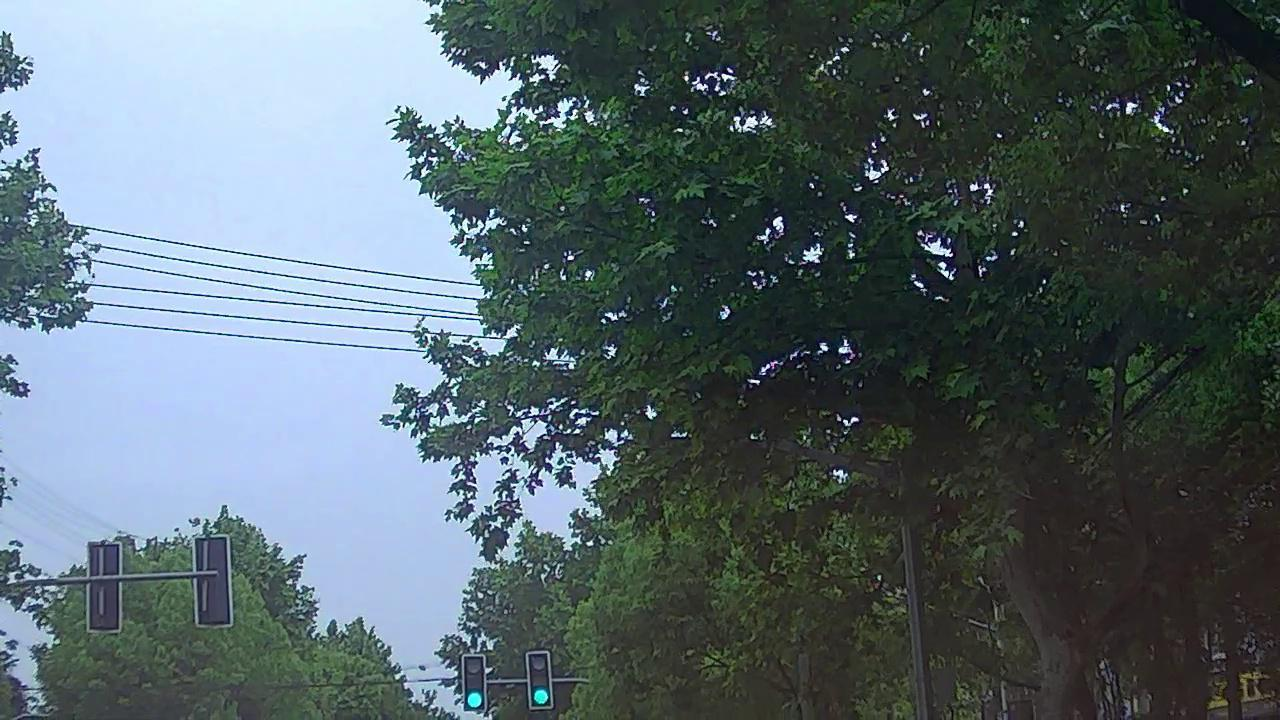traffic_light: (528, 649, 552, 706), (465, 654, 485, 709)
